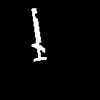double_crochet: (32, 8, 45, 60)
